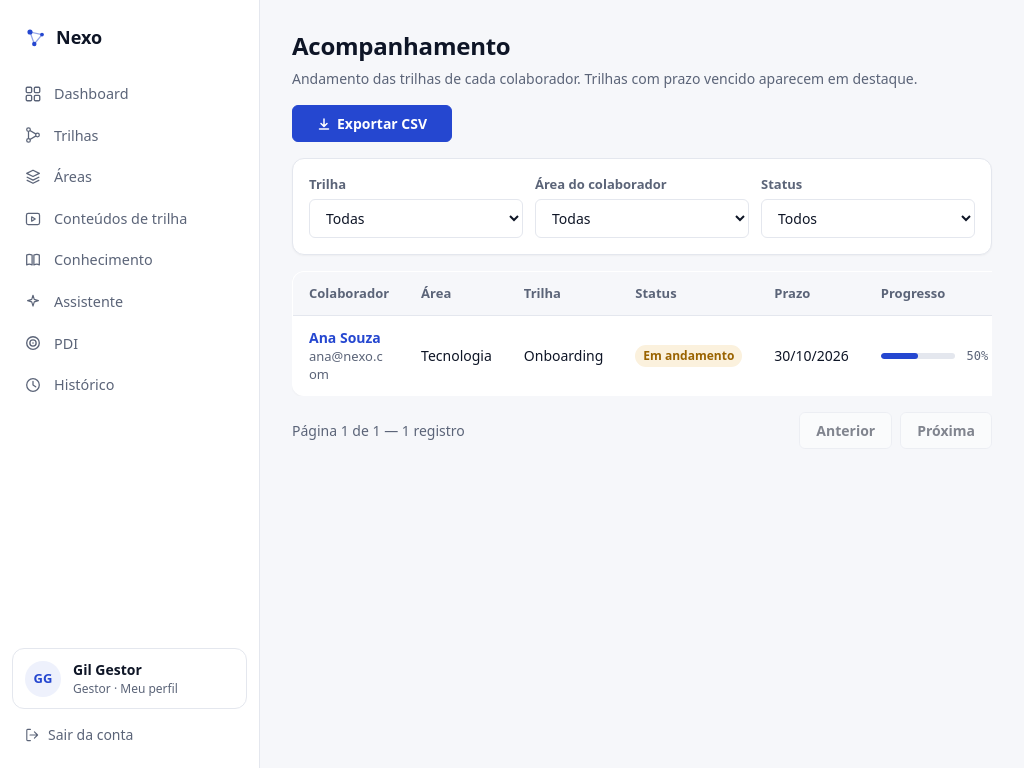
Scenario: AcompanhamentoPage › mostra o erro do painel do colaborador
The width and height of the screenshot is (1024, 768).
What coordinates should you click on to do the following:
click the button with aria-label "Ver trilhas de Ana Souza"
I would click on:
 (349, 356)
Its box is 309,328 -> 389,383.
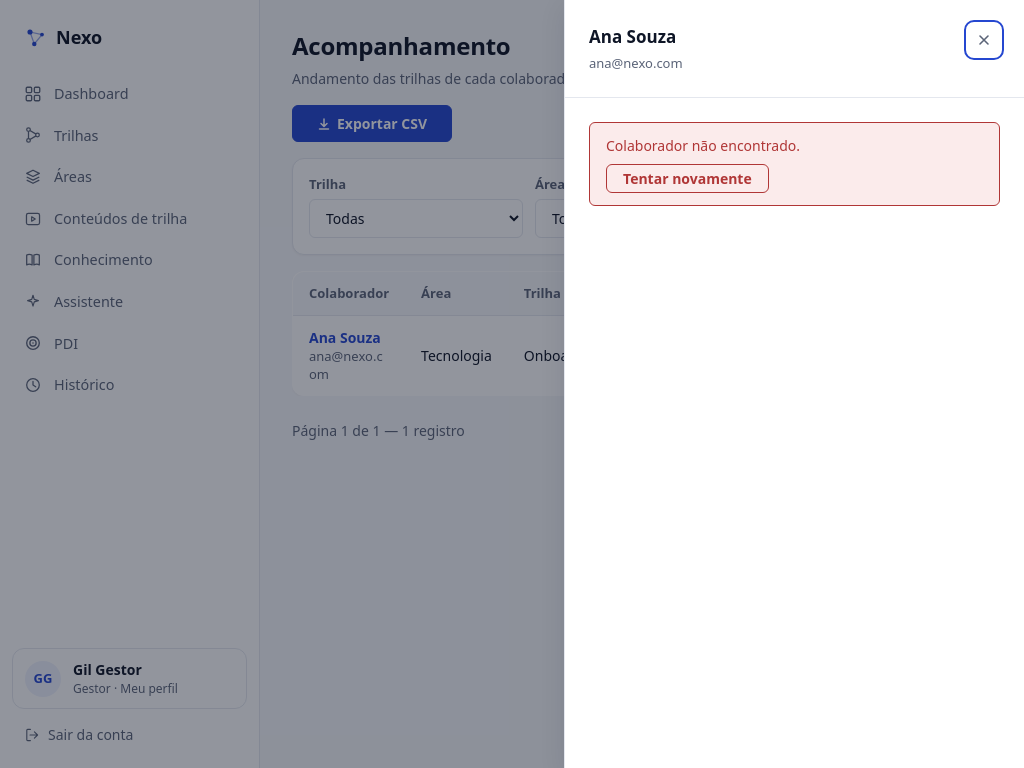
Expected: the message shows "Colaborador não encontrado.", 606,136 -> 800,155
